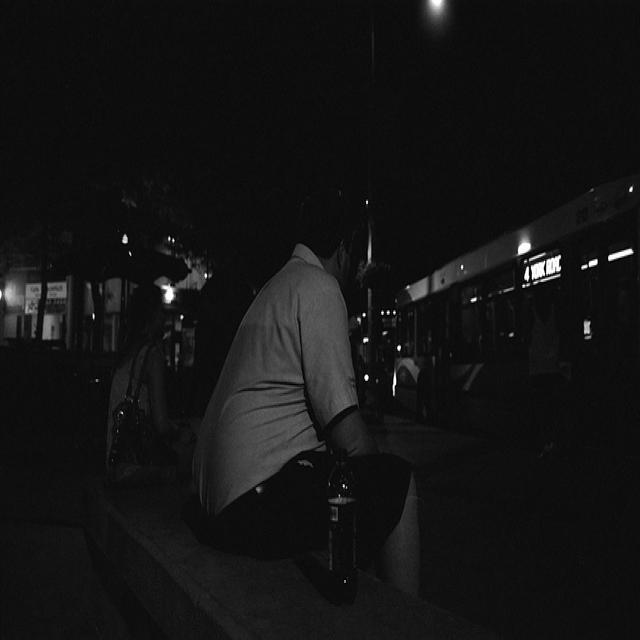Bottle: (325, 443, 371, 617)
Bus: (387, 168, 640, 435)
People: (177, 176, 438, 617), (98, 276, 202, 490), (511, 267, 563, 473)
